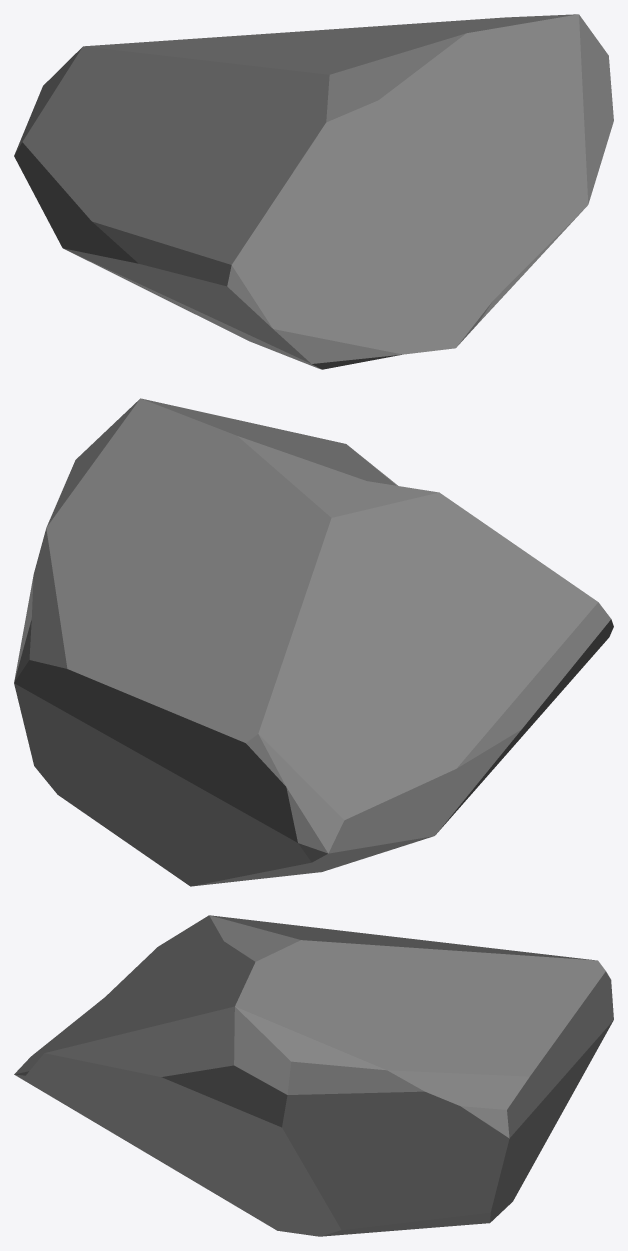
The model's file is Wh_Rock_Small_03.fbx.
The picture shows the model from 3 angles, top to bottom: view 1: azimuth 30°, elevation 25°; view 2: azimuth 150°, elevation 25°; view 3: azimuth 270°, elevation 25°; orthographic projection. The views are drawn at different scales.
Parts seen in each view (by area): view 1: LowPolyRock.018; view 2: LowPolyRock.018; view 3: LowPolyRock.018.
Part boxes in pixels (x1,y1,x2,y2): LowPolyRock.018: (14, 14, 613, 369); LowPolyRock.018: (14, 398, 613, 886); LowPolyRock.018: (14, 915, 613, 1236).
Bounding box in the file's own units: 178 × 127 × 223.
